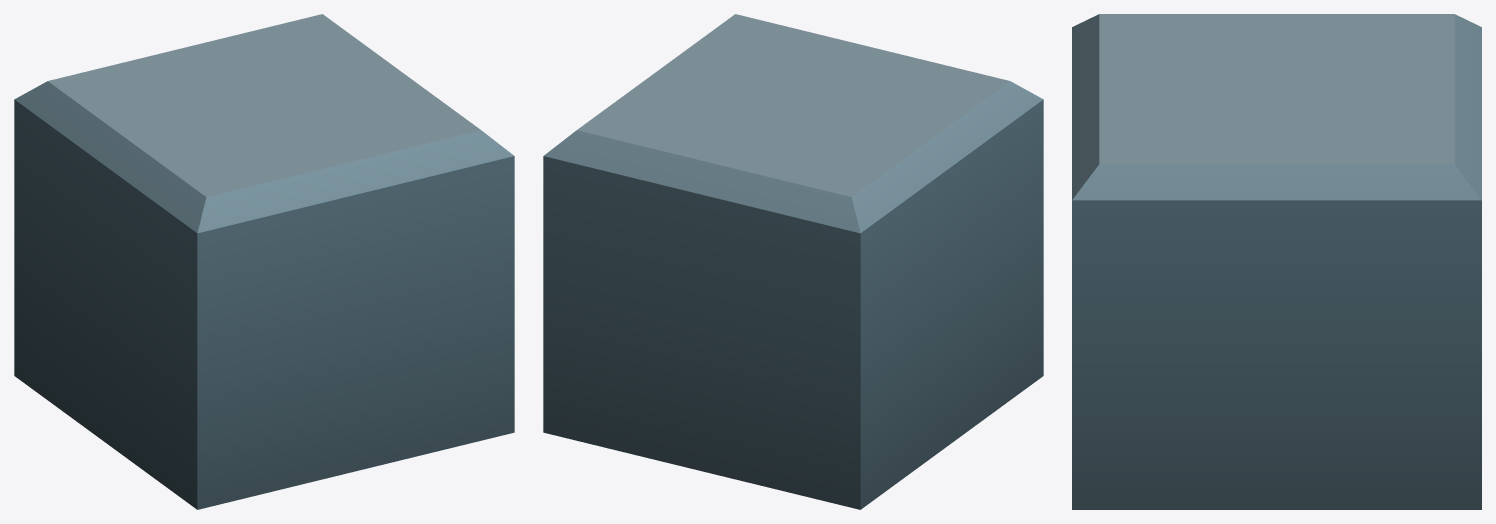
File: ice.glb
3 views of the same model, side by side, from view 1: azimuth 30°, elevation 25°; view 2: azimuth 150°, elevation 25°; view 3: azimuth 270°, elevation 25° (orthographic). The views are drawn at different scales.
Parts seen in each view (by area): view 1: ice; view 2: ice; view 3: ice.
Boxes of the visible parts, x1,y1,x2,y2 form: ice: [14, 14, 514, 509]; ice: [543, 14, 1043, 509]; ice: [1072, 14, 1481, 509].
Size of the model in its own units: 0.18 by 0.162 by 0.18.
